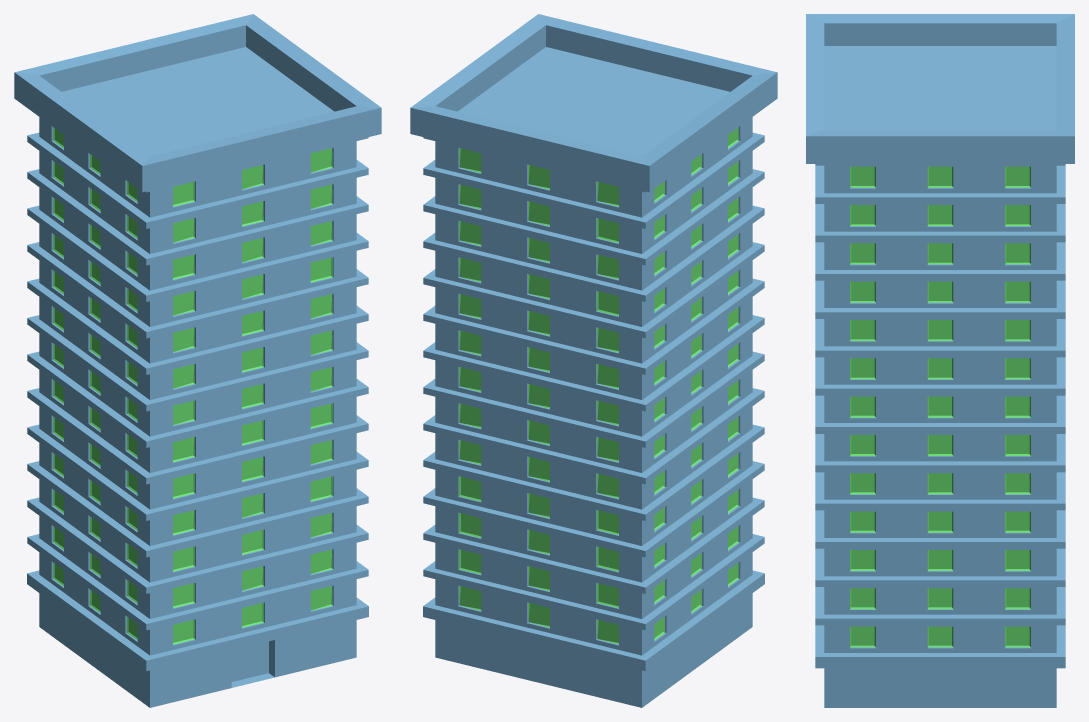
The model's file is Blue Medium.fbx.
3 renders of one model, left to right at view 1: azimuth 30°, elevation 25°; view 2: azimuth 150°, elevation 25°; view 3: azimuth 270°, elevation 25°, orthographic. The views are drawn at different scales.
Visible parts, largest first — view 1: Blue Medium; view 2: Blue Medium; view 3: Blue Medium.
Part boxes in pixels (bbox=[...]): Blue Medium: bbox=[14, 14, 381, 707]; Blue Medium: bbox=[410, 14, 777, 707]; Blue Medium: bbox=[806, 14, 1074, 707].
Size of the model in its own units: 9.97 by 22.01 by 9.25.
